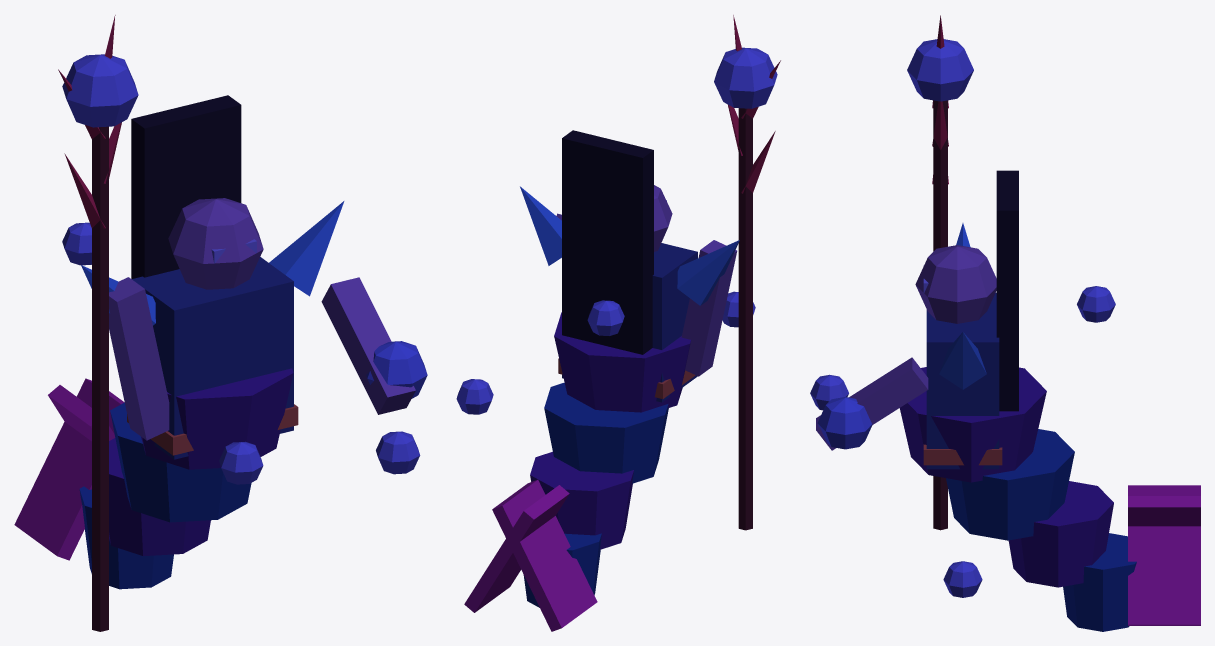
The model's file is SM_Champion_9002_Baira.glb.
3 views of the same model, side by side, from view 1: azimuth 30°, elevation 25°; view 2: azimuth 150°, elevation 25°; view 3: azimuth 270°, elevation 25° (orthographic). The views are drawn at different scales.
Parts seen in each view (by area): view 1: SM_Champion_9002_Baira; view 2: SM_Champion_9002_Baira; view 3: SM_Champion_9002_Baira.
Boxes of the visible parts, left/top/right/bottom form: SM_Champion_9002_Baira: left=14, top=15, right=427, bottom=631; SM_Champion_9002_Baira: left=456, top=15, right=780, bottom=631; SM_Champion_9002_Baira: left=810, top=15, right=1200, bottom=631.
Size of the model in its own units: 1.19 by 2 by 1.27.
